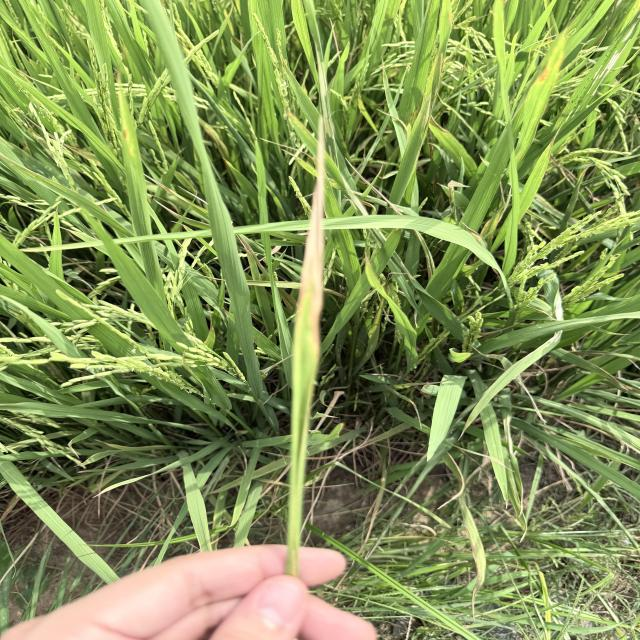Chay bia la: (294, 120, 329, 354)
